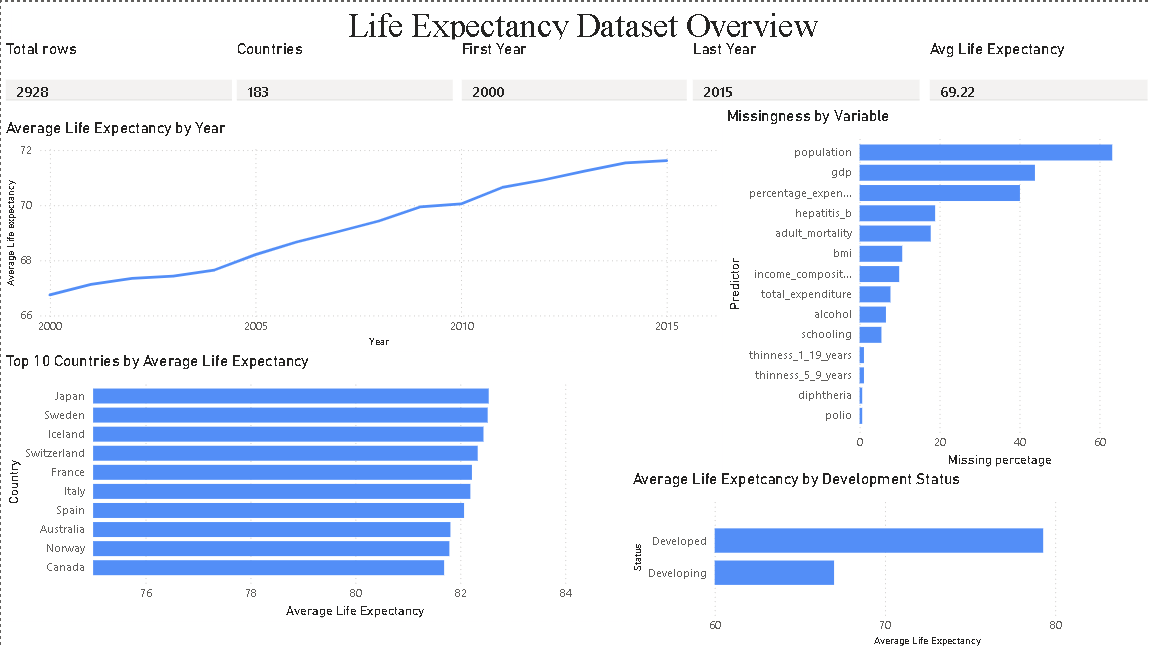

This screenshot's page, from the dashboard's own definition file:
{"tool":"powerbi","page":{"name":"Dataset Overview","canvas":[1280,720],"ordinal":0},"visuals":[{"type":"textbox","box":[11,0,1267.8,62.3],"z":0},{"type":"cardVisual","title":"Total rows","fields":{"Rows":["overview_summary.total_rows"]},"box":[0,42,272,118],"z":1000},{"type":"cardVisual","title":"Countries","fields":{"Rows":["overview_summary.unique_countries"]},"box":[256,42,250,118],"z":2000},{"type":"cardVisual","title":"First Year","fields":{"Rows":["overview_summary.first_year"]},"box":[506,42,260,118],"z":3000},{"type":"cardVisual","title":"Last Year","fields":{"Rows":["overview_summary.last_year"]},"box":[764,42,262,118],"z":4000},{"type":"cardVisual","title":"Avg Life Expectancy","fields":{"Rows":["overview_summary.avg_life_expectancy"]},"box":[1026,42,252,118],"z":5000},{"type":"clusteredBarChart","title":"Average Life Expetcancy by Development Status","fields":{"Category":["status_summary.status"],"Y":["Avg(status_summary.avg_life_expectancy)"]},"box":[696,520,580,200],"z":6000},{"type":"lineChart","title":"Average Life Expectancy by Year","fields":{"Category":["year_summary.year"],"Y":["Avg(year_summary.avg_life_expectancy)"]},"box":[0,130,802,258],"z":7000},{"type":"clusteredBarChart","title":"Top 10 Countries by Average Life Expectancy","fields":{"Category":["country_summary.country"],"Y":["Avg(country_summary.avg_life_expectancy)"]},"box":[0,388,696,300],"z":8000},{"type":"clusteredBarChart","title":"Missingness by Variable","fields":{"Category":["missingness_summary.column_name"],"Y":["Sum(missingness_summary.missing_percent)"]},"box":[802,116,474,404],"z":9000}]}

Visuals, with their boxes in screenshot pixels (x1, y1, x2, y2), scaled from the page's 1280x720 canvas onto the 1150x648 screenshot:
textbox: rect(10, 0, 1149, 56)
"Total rows" cardVisual: rect(0, 38, 244, 144)
"Countries" cardVisual: rect(230, 38, 455, 144)
"First Year" cardVisual: rect(455, 38, 688, 144)
"Last Year" cardVisual: rect(686, 38, 922, 144)
"Avg Life Expectancy" cardVisual: rect(922, 38, 1148, 144)
"Average Life Expetcancy by Development Status" clusteredBarChart: rect(625, 468, 1146, 647)
"Average Life Expectancy by Year" lineChart: rect(0, 117, 721, 349)
"Top 10 Countries by Average Life Expectancy" clusteredBarChart: rect(0, 349, 625, 619)
"Missingness by Variable" clusteredBarChart: rect(721, 104, 1146, 468)
